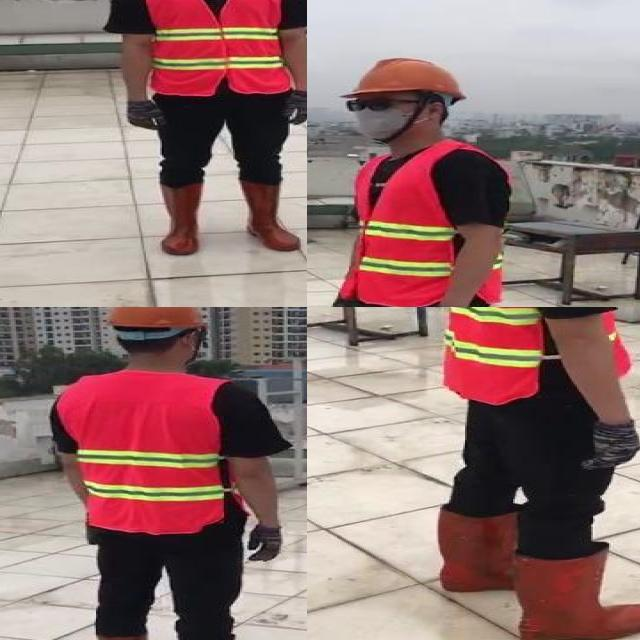boots: (504, 546, 640, 640), (435, 505, 518, 592), (236, 182, 302, 252), (157, 184, 203, 257)
face_mask: (346, 94, 412, 141)
glasses: (337, 93, 402, 115)
hand_glove: (586, 419, 640, 471), (242, 525, 286, 563), (119, 101, 164, 133), (289, 90, 307, 126), (329, 297, 361, 307)
head_helmet: (342, 57, 470, 102), (96, 307, 208, 331)
person: (43, 307, 288, 640), (405, 307, 640, 640), (307, 49, 572, 307), (110, 0, 307, 254)
vest: (57, 371, 233, 535), (344, 146, 509, 306), (142, 0, 291, 96), (433, 307, 555, 407), (600, 307, 634, 378)
